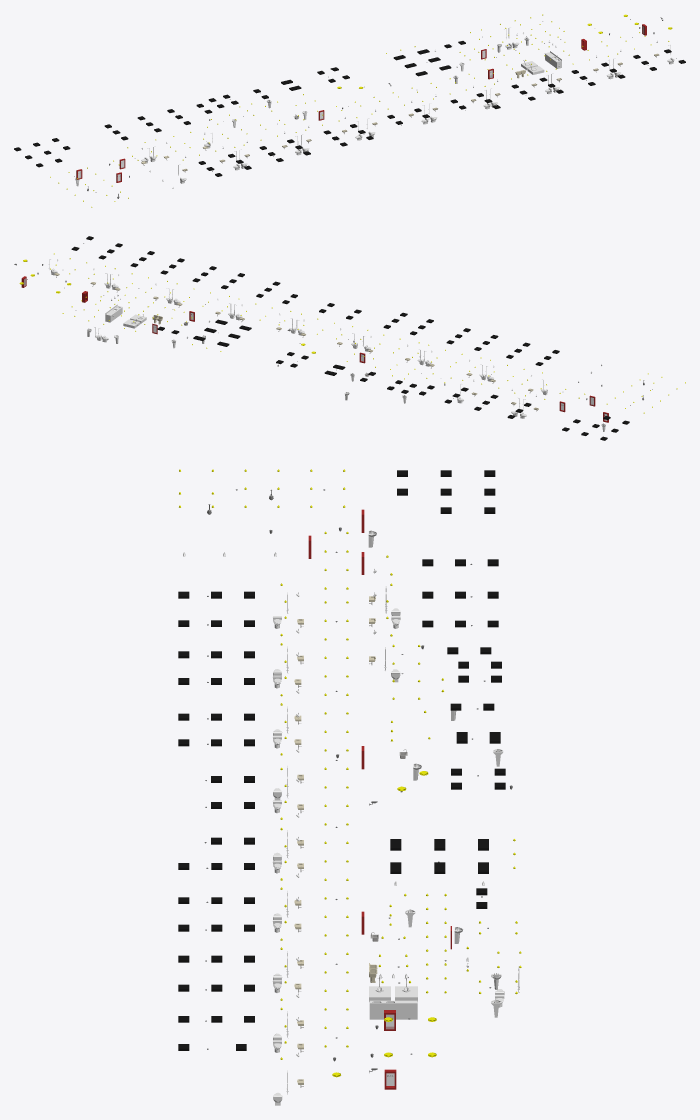
The model's file is F5_shebei.glb.
3 views of the same model, one above another, from view 1: azimuth 30°, elevation 25°; view 2: azimuth 150°, elevation 25°; view 3: azimuth 270°, elevation 25° (orthographic). The views are drawn at different scales.
Size of the model in its own units: 78.53 by 3.07 by 18.84.
